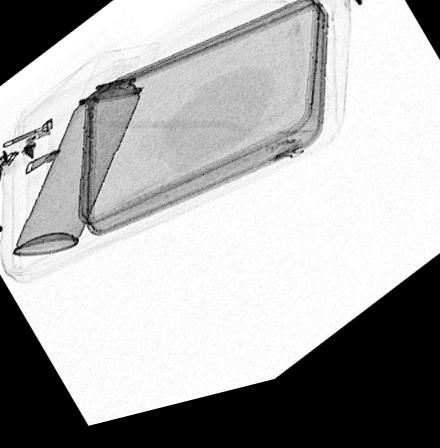Sprayer: (11, 50, 160, 259)
